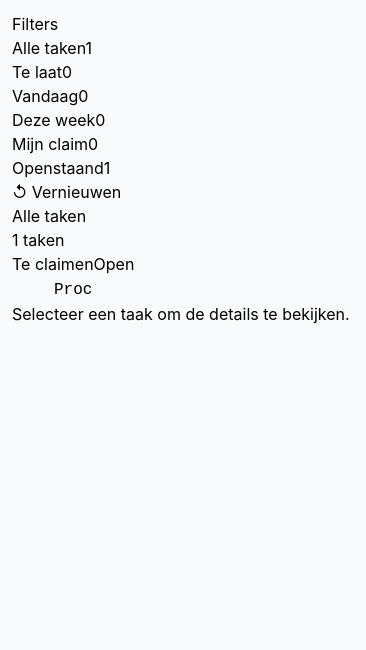
Test: TakenInbox task rows and detail pane › reports a failed claim rather than pretending it worked
Click the text "Te claimen" at (53, 264), box x1=12 y1=254 x2=94 y2=274
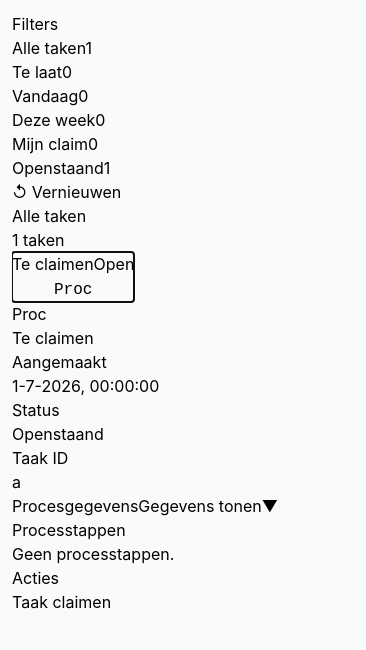
Click the button "Taak claimen" at (62, 602), box x1=12 y1=590 x2=111 y2=614
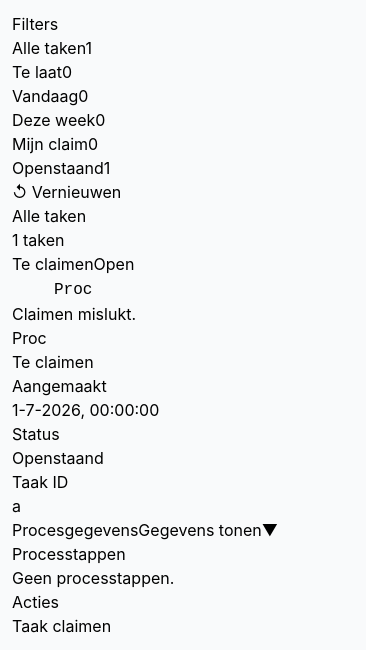
Expected: the text "Claimen mislukt." is shown, x1=12 y1=304 x2=136 y2=324
